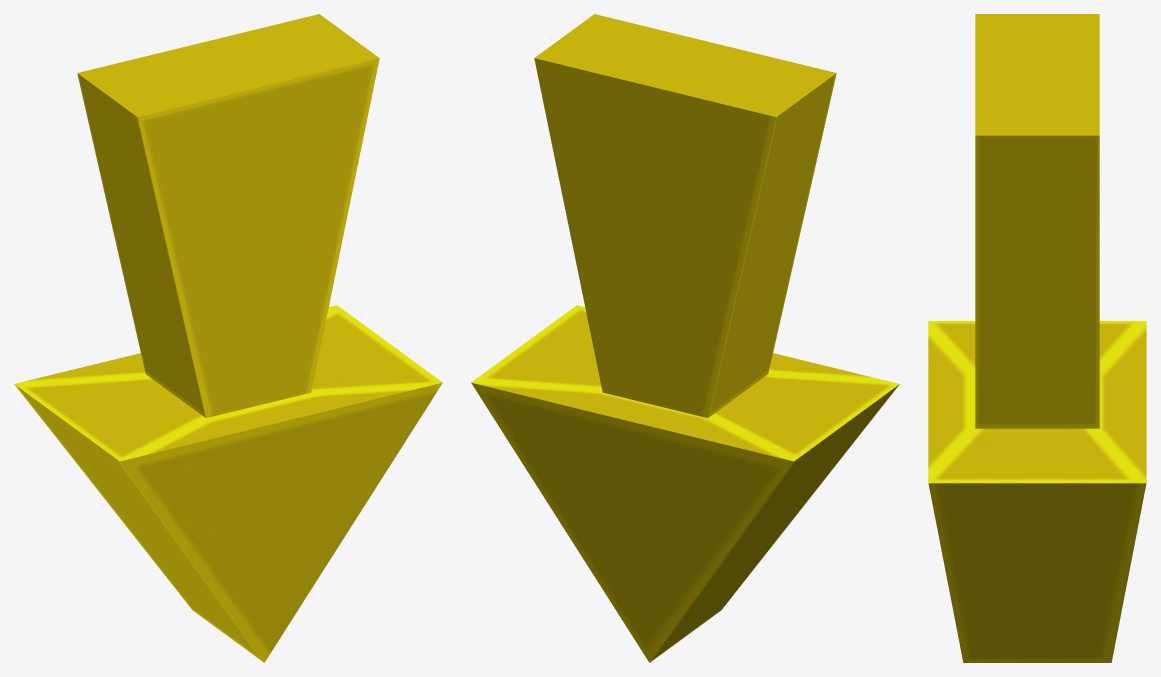
File: Arrow.FBX
3 renders of one model, left to right at view 1: azimuth 30°, elevation 25°; view 2: azimuth 150°, elevation 25°; view 3: azimuth 270°, elevation 25°, orthographic. The views are drawn at different scales.
Parts seen in each view (by area): view 1: Box012; view 2: Box012; view 3: Box012.
Part boxes in pixels (left/top/right/bottom): Box012: left=14, top=14, right=442, bottom=662; Box012: left=471, top=14, right=899, bottom=662; Box012: left=928, top=14, right=1146, bottom=662.
Bounding box in the file's own units: 43.81 × 24.86 × 73.99.
